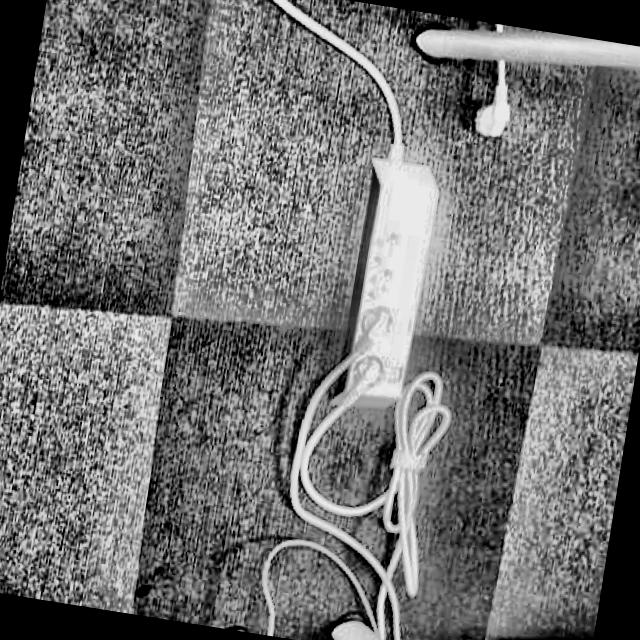Cable: (161, 0, 526, 640)
